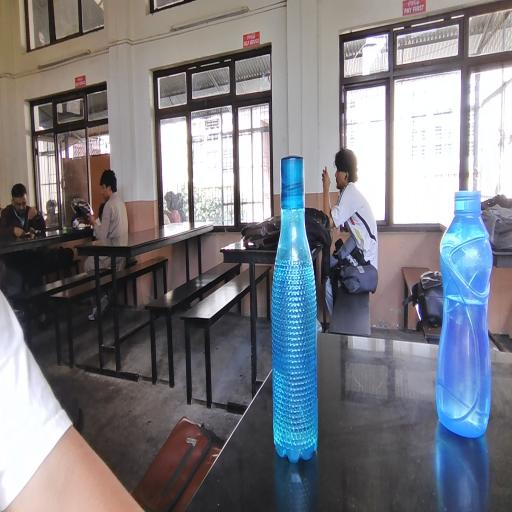Bottle: (254, 146, 354, 494), (444, 187, 506, 451)
